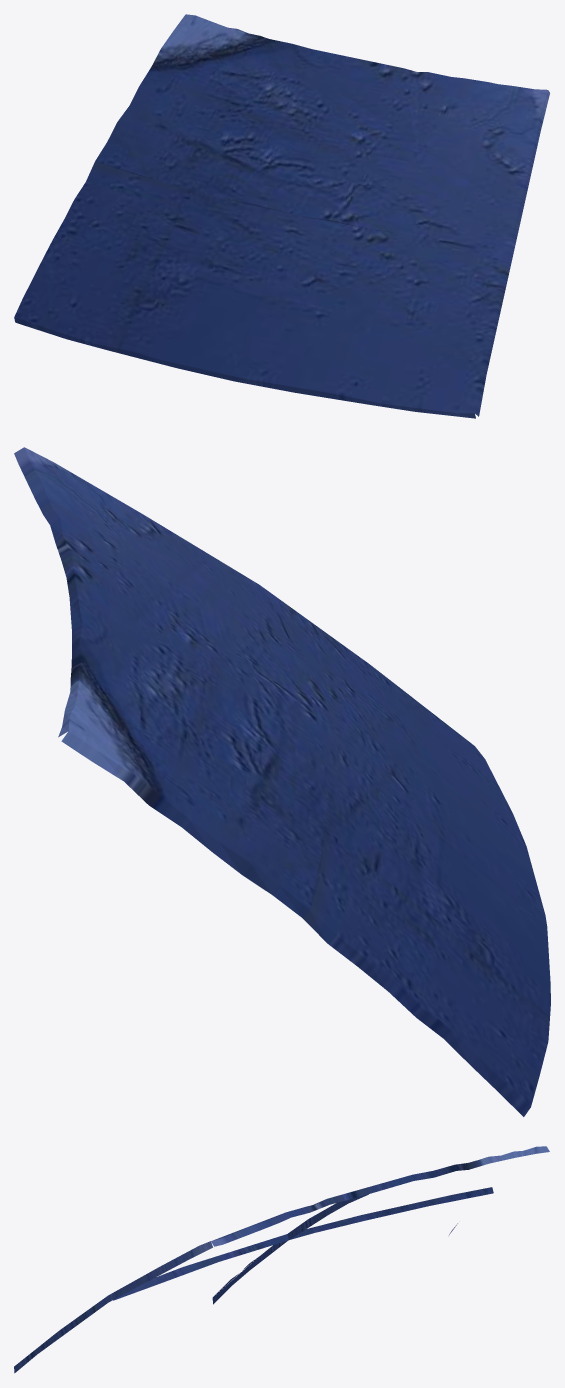
3 views of the same model, one above another, from view 1: azimuth 30°, elevation 25°; view 2: azimuth 150°, elevation 25°; view 3: azimuth 270°, elevation 25° (orthographic). The views are drawn at different scales.
Size of the model in its own units: 1681077 by 828172 by 1847928.
1 material, 1 textured.
